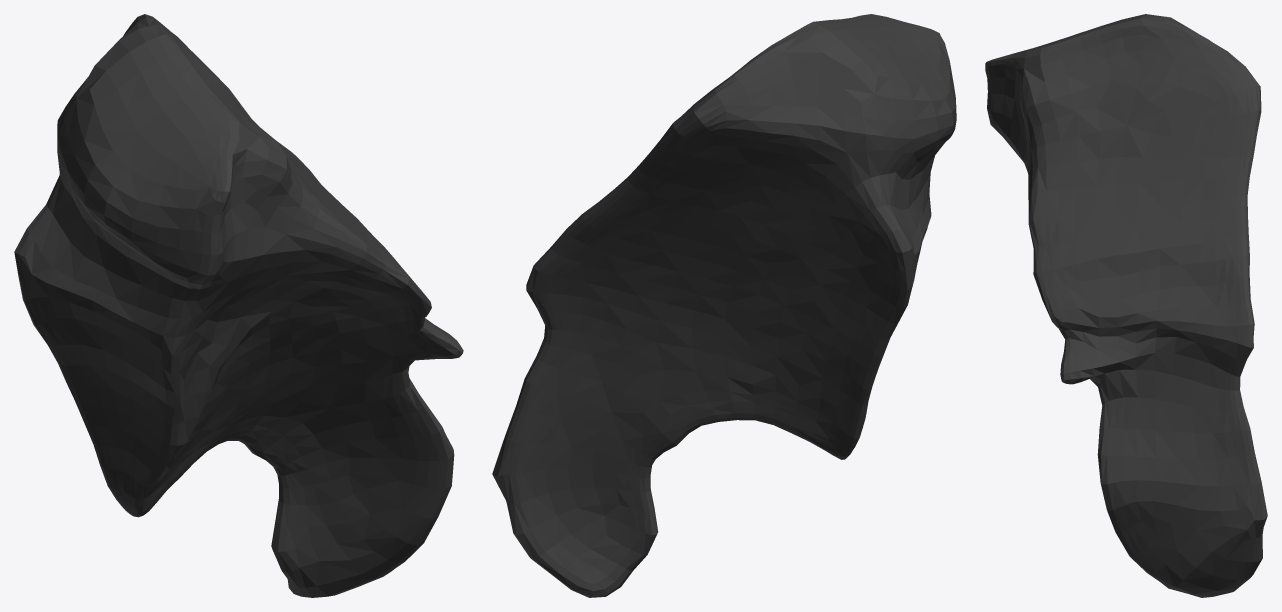
The model's file is R_lung_accessory_lobe_LOW.glb.
3 renders of one model, left to right at view 1: azimuth 30°, elevation 25°; view 2: azimuth 150°, elevation 25°; view 3: azimuth 270°, elevation 25°, orthographic. The views are drawn at different scales.
Visible parts, largest first — view 1: R_lung_accessory_lobe_LOW; view 2: R_lung_accessory_lobe_LOW; view 3: R_lung_accessory_lobe_LOW.
Boxes of the visible parts, x1,y1,x2,y2 form: R_lung_accessory_lobe_LOW: [14, 14, 463, 597]; R_lung_accessory_lobe_LOW: [492, 14, 956, 597]; R_lung_accessory_lobe_LOW: [985, 14, 1267, 597].
Bounding box in the file's own units: 0.00635 × 0.00962 × 0.00491.
Materials: 1 (1 with a texture image).
